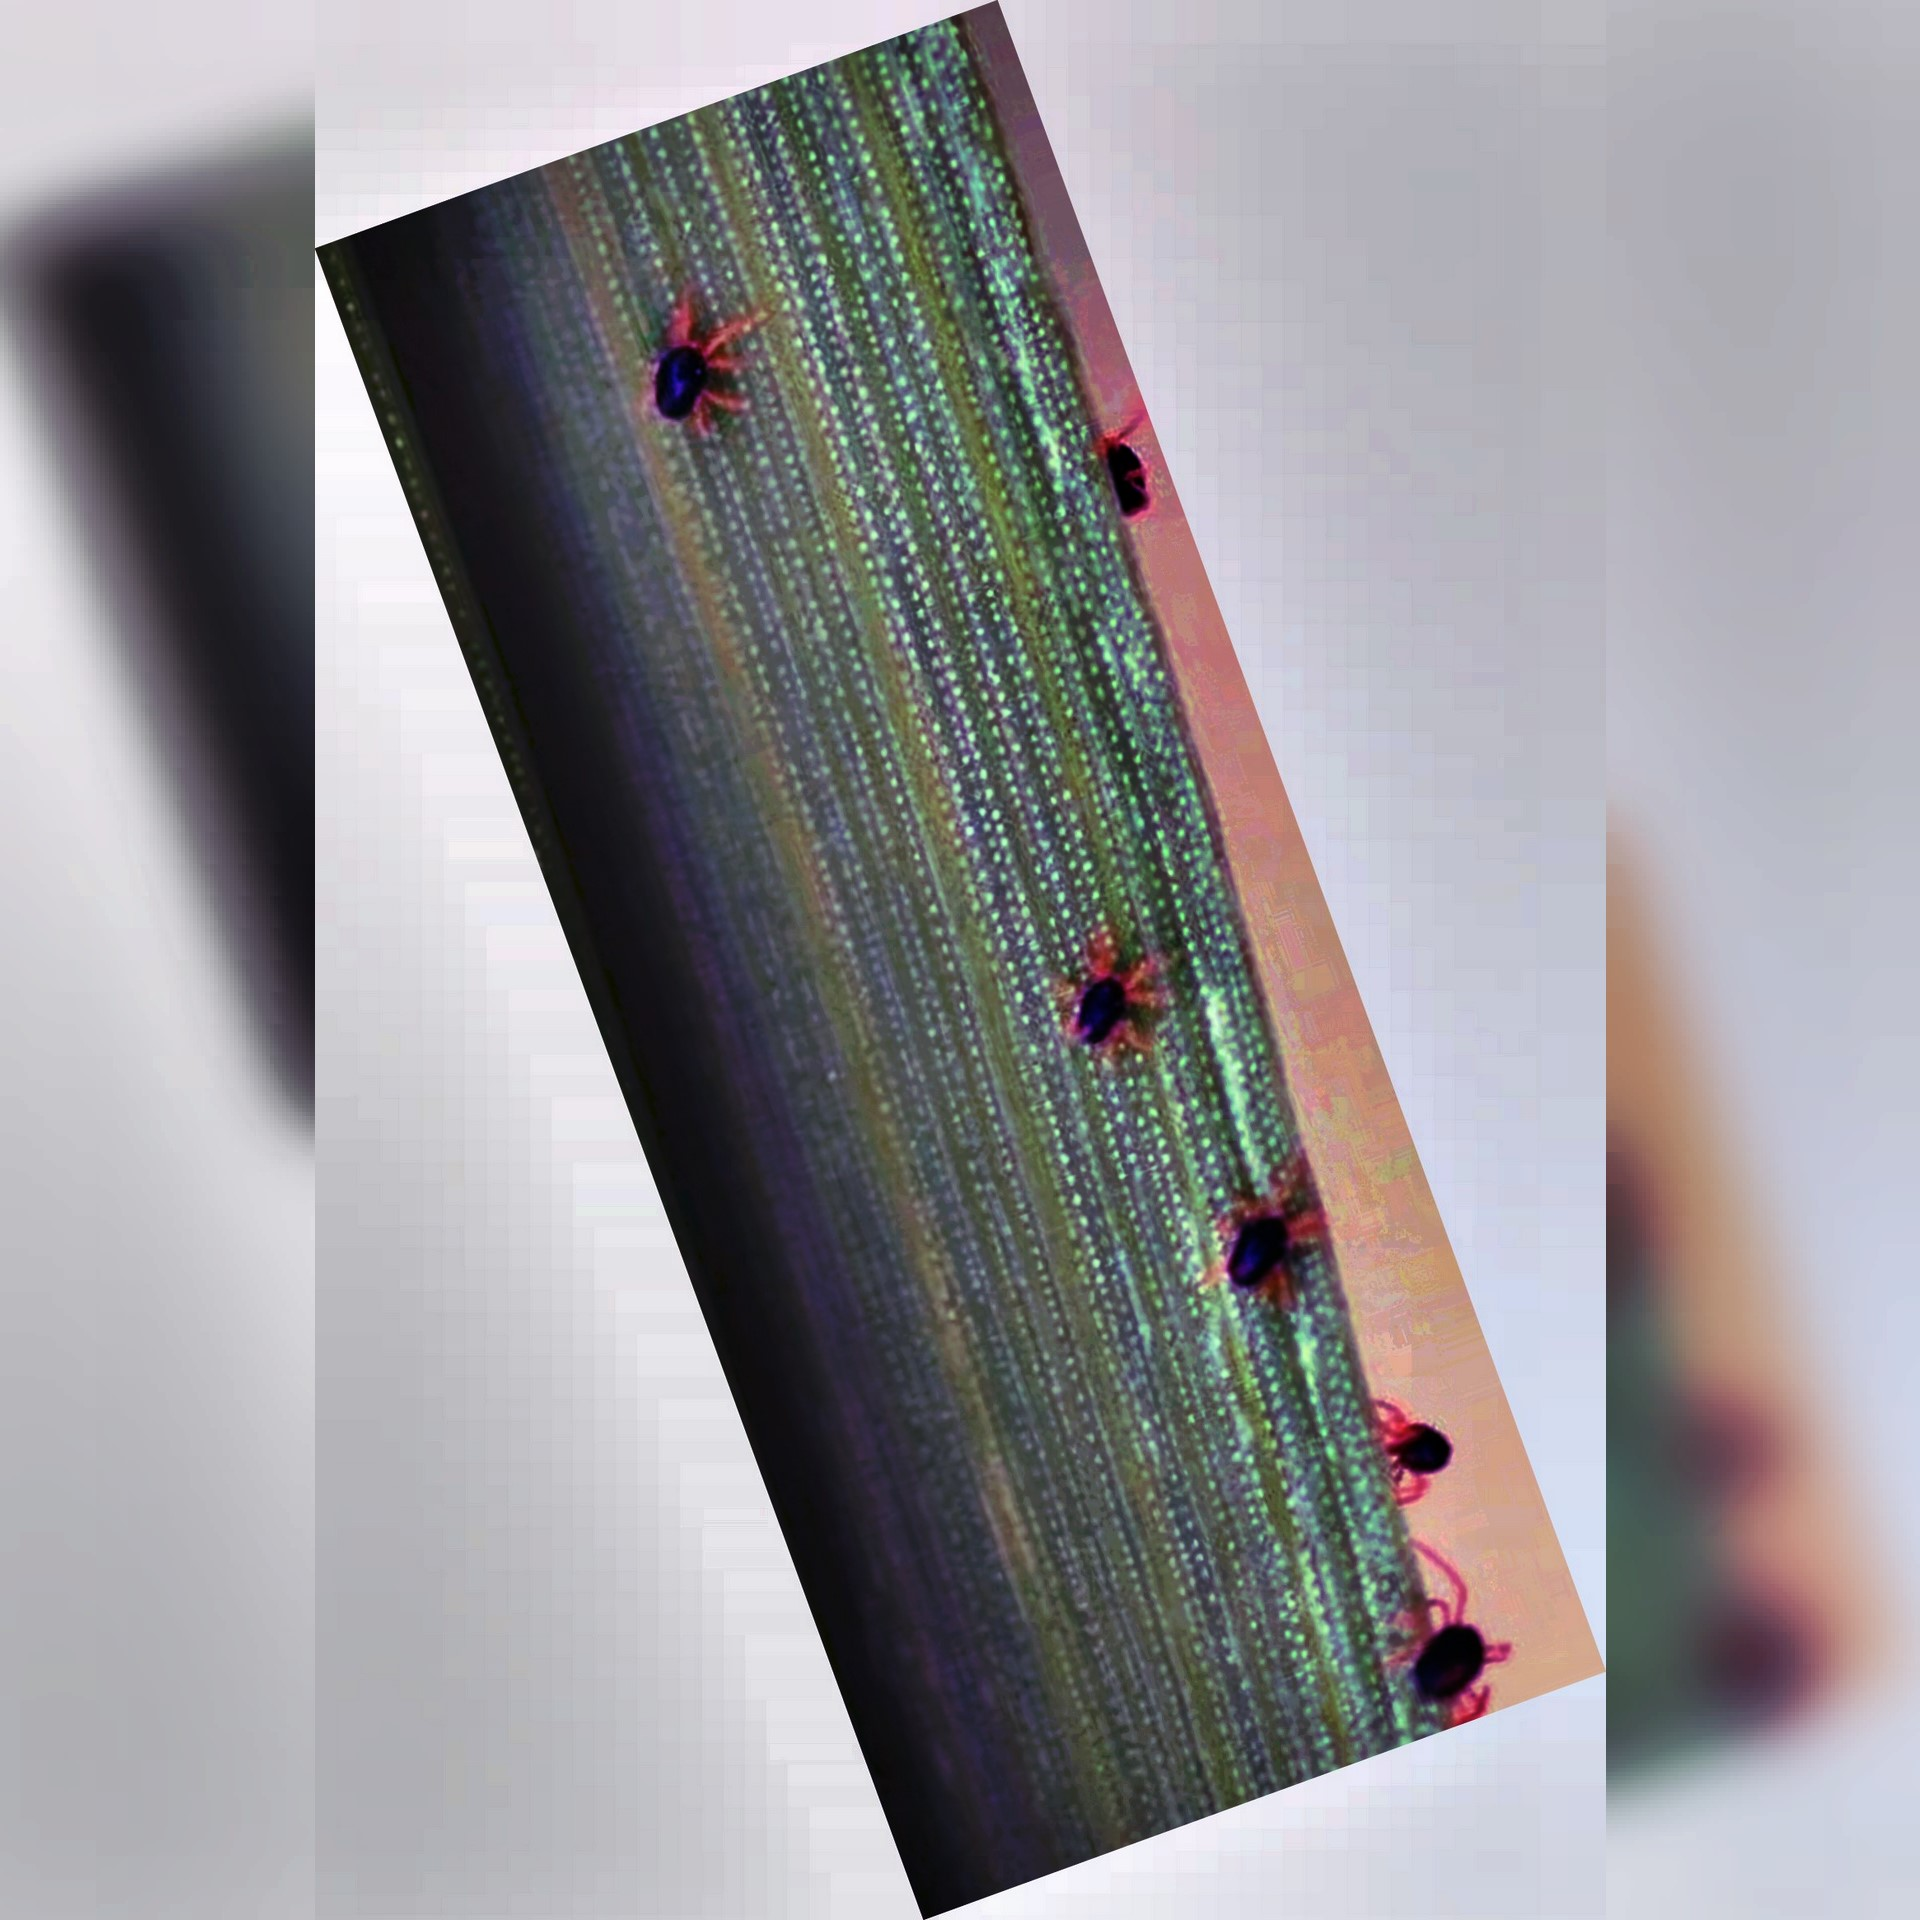Wheat Red Spider: (1020, 925, 1347, 1347), (603, 250, 796, 461)
